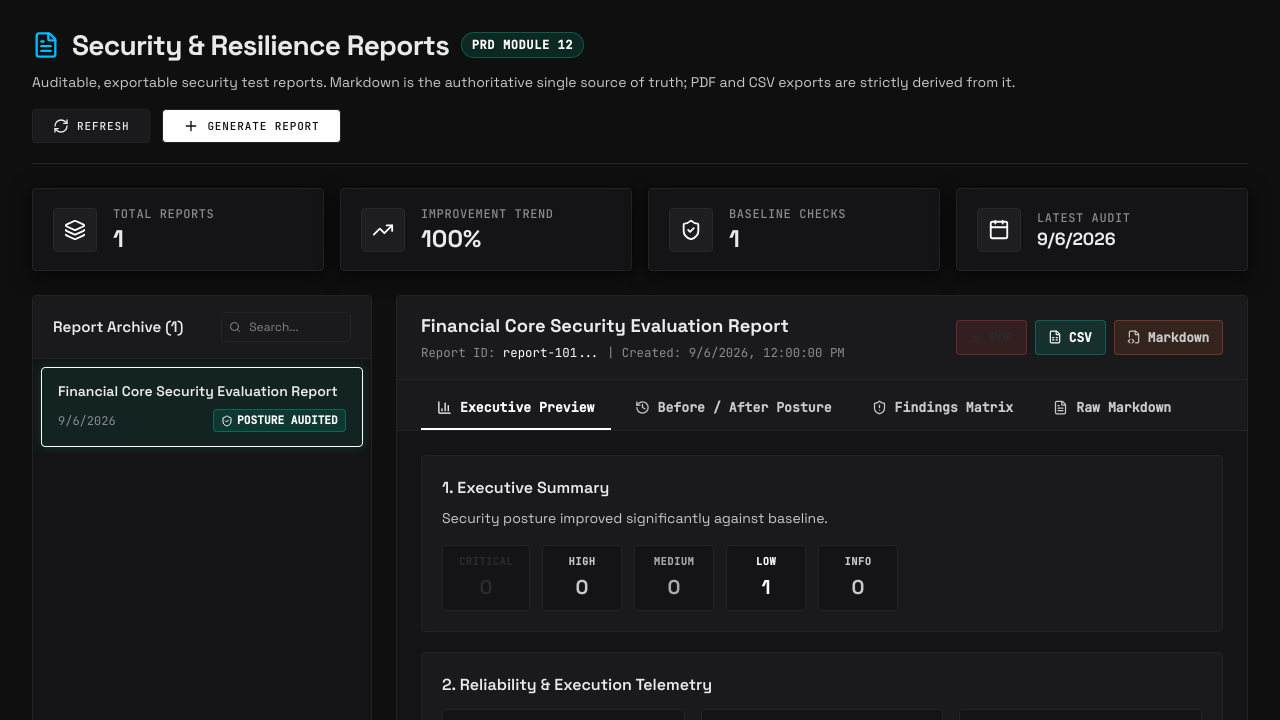
Phase 13 — Reporting Engine UI (PRD Module 12) › switches navigation tabs to Before / After Posture and Findings Matrix
Switch to Before / After Posture
Click the button "Before / After Posture": (733, 409) top-left (618, 388), bottom-right (848, 430)
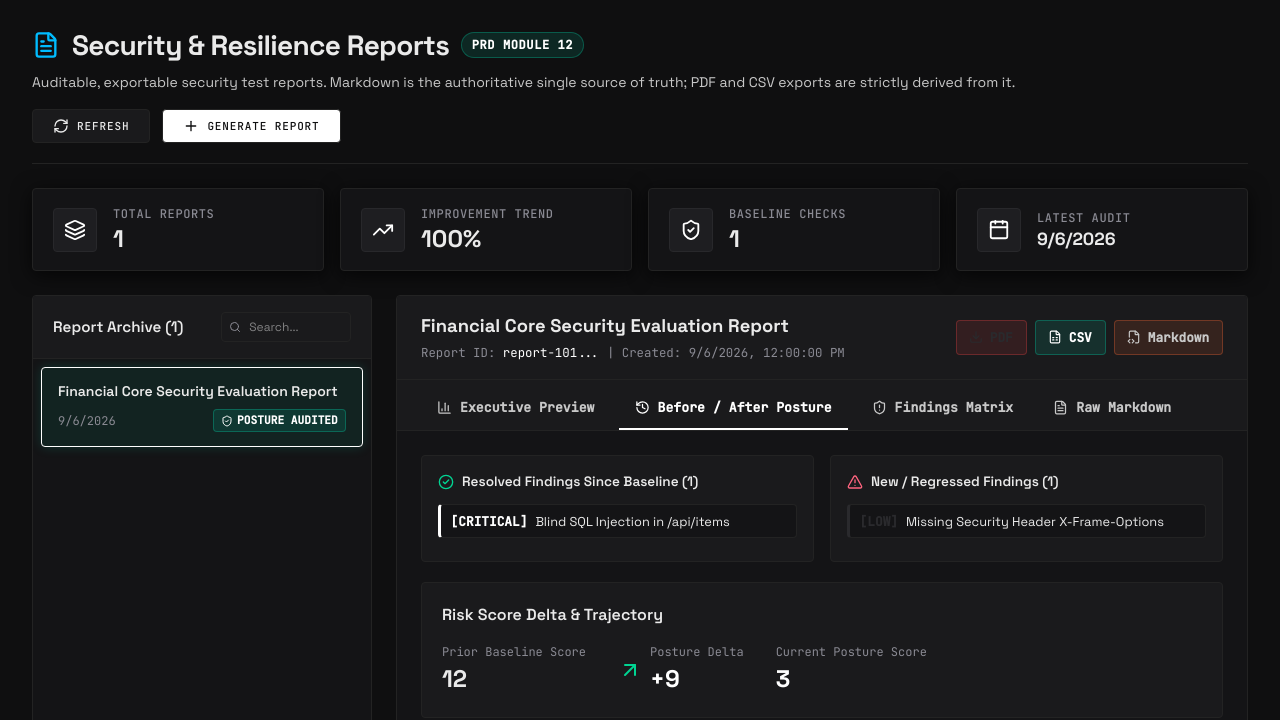
Expected: the text "Resolved Findings Since Baseline (1)" is shown, top-left (438, 473), bottom-right (698, 490)
Expected: the text "Blind SQL Injection in /api/items" is shown, top-left (535, 512), bottom-right (730, 531)
Expected: the heading "Risk Score Delta & Trajectory" is shown, top-left (442, 604), bottom-right (663, 625)
Switch to Findings Matrix
Click the button "Findings Matrix": (942, 409) top-left (856, 388), bottom-right (1029, 430)
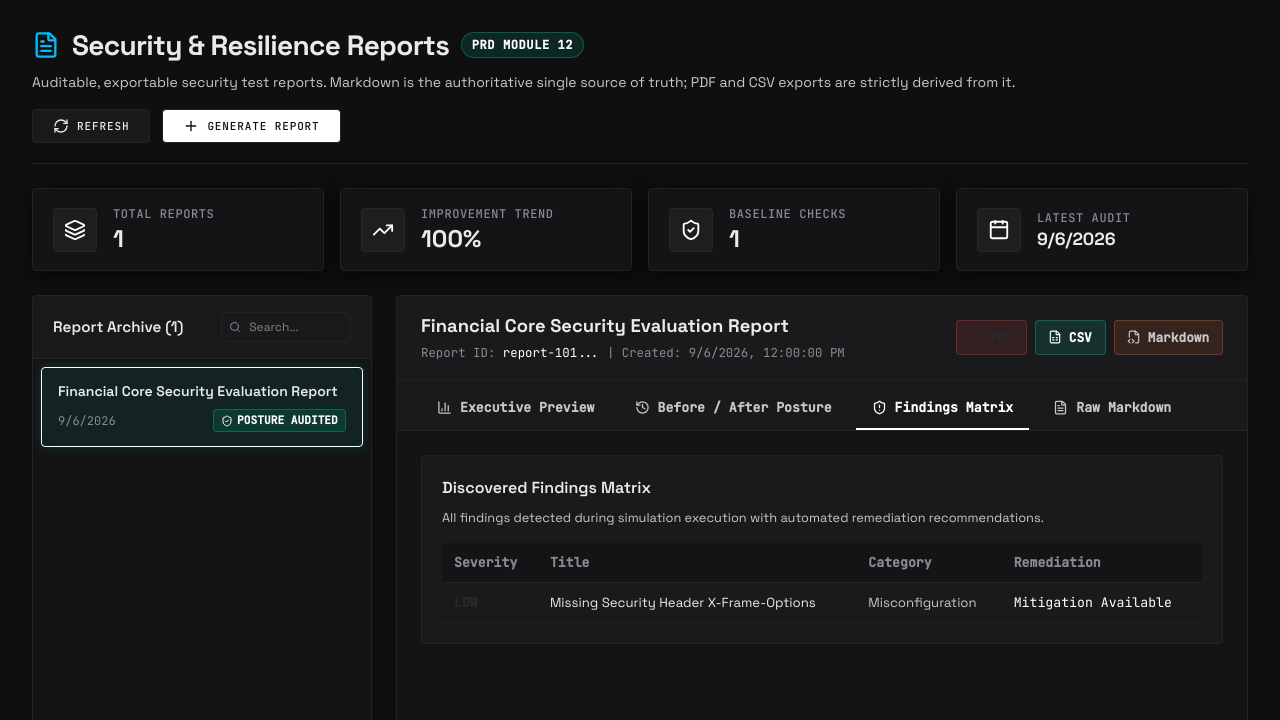
Expected: the text "Missing Security Header X-Frame-Options" is shown, top-left (538, 583), bottom-right (856, 623)
Expected: the heading "Discovered Findings Matrix" is shown, top-left (442, 477), bottom-right (651, 498)
Switch to Raw Markdown
Click the button "Raw Markdown": (1112, 409) top-left (1037, 388), bottom-right (1187, 430)
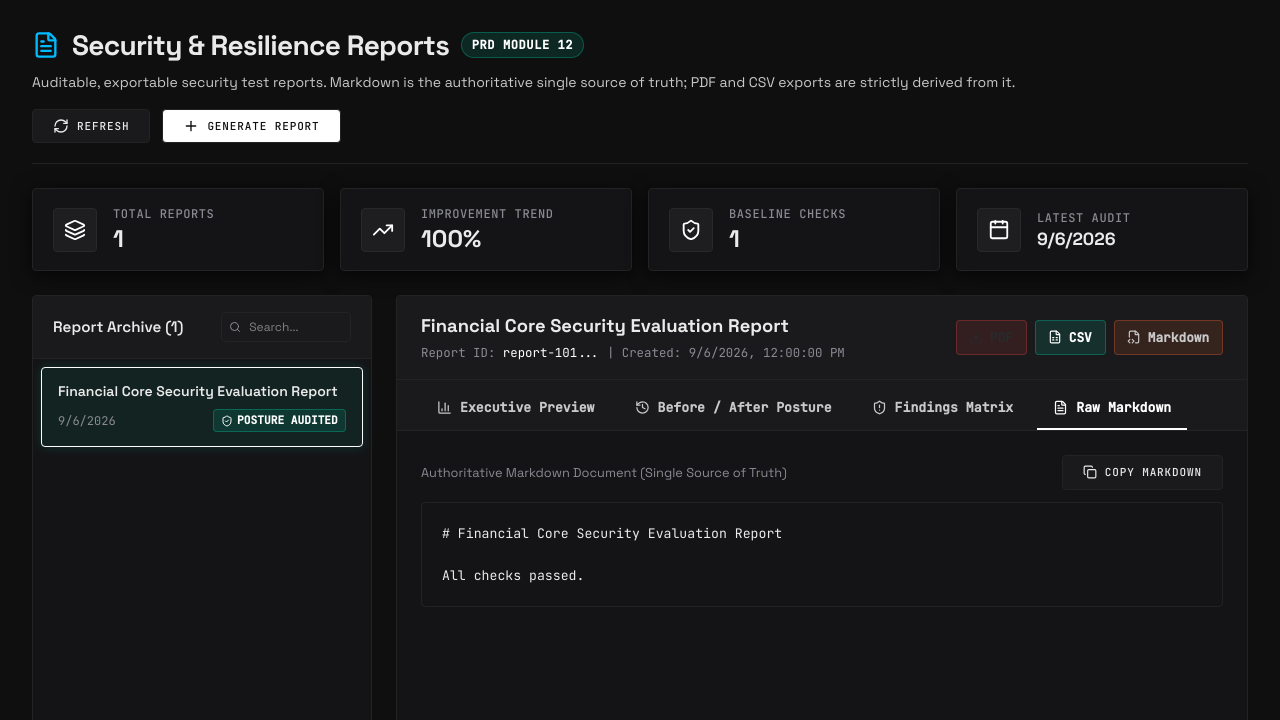
Expected: the text "Authoritative Markdown Document (Single Source of Truth)" is shown, top-left (421, 463), bottom-right (787, 482)
Expected: the button "Copy Markdown" is shown, top-left (1062, 455), bottom-right (1223, 490)
